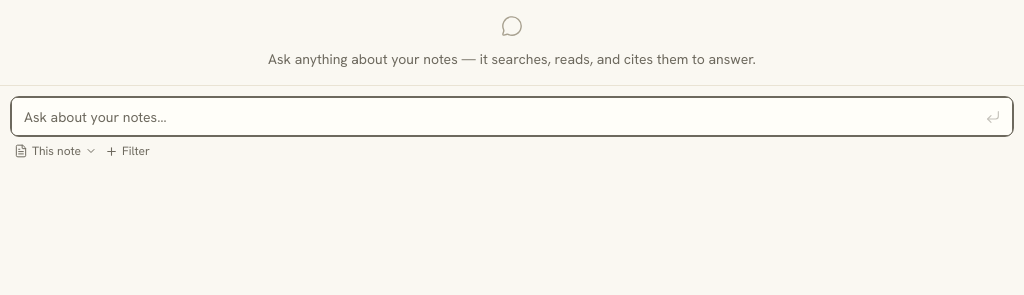
Test case: ChatPanel with a library-wide target (#94) › keeps the note pane's own scope options intact
The width and height of the screenshot is (1024, 295).
Click the button with aria-label "Chat scope" at (56, 151), box top-left (14, 143), bottom-right (97, 159)
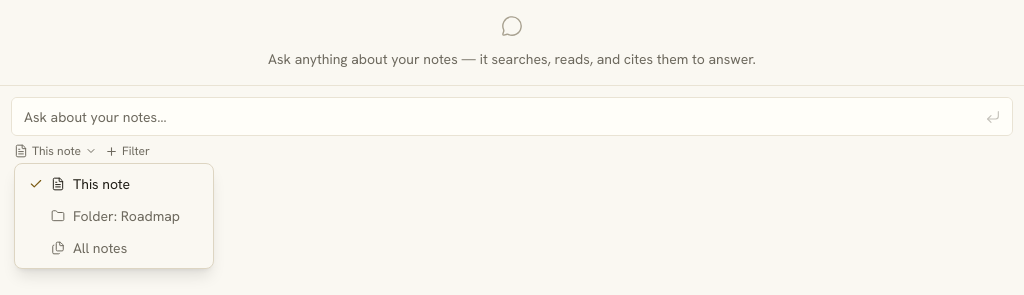
Check: the text "Folder: Roadmap" is shown, box top-left (73, 206), bottom-right (180, 226)
Check: the text "All notes" is shown, box top-left (73, 238), bottom-right (127, 258)
